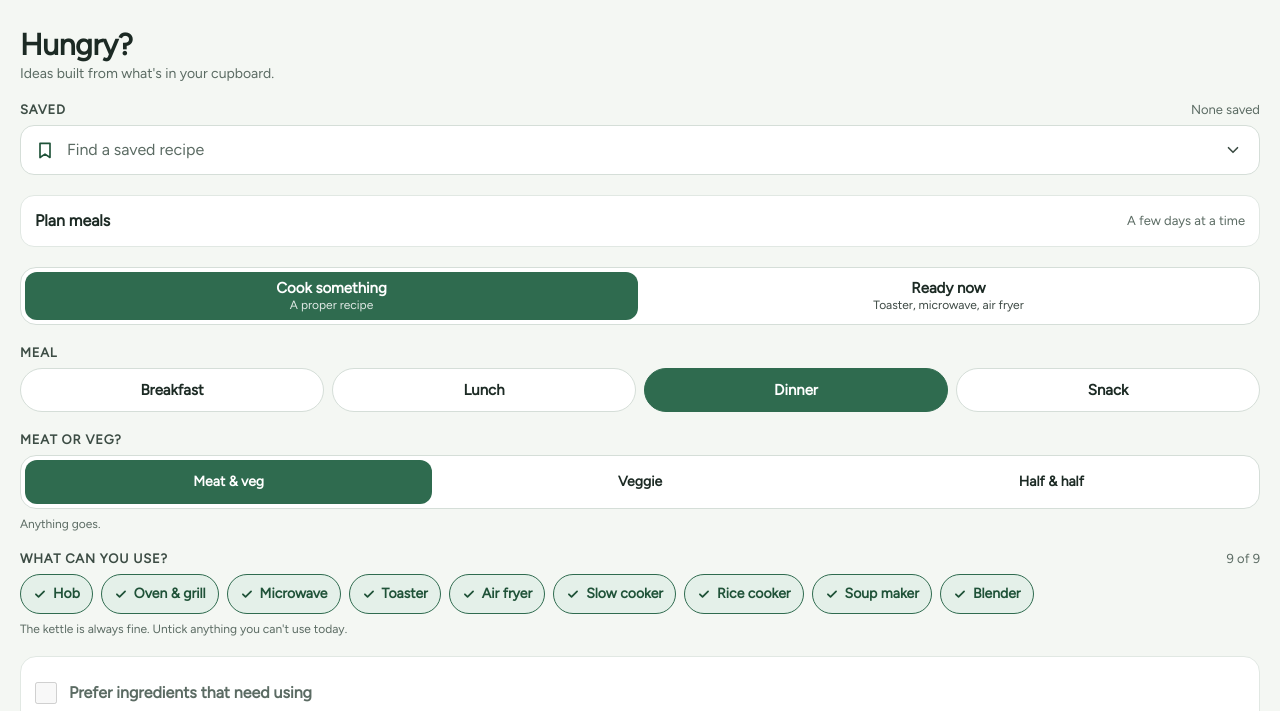
Test: Ready now has no chips, and says it can use the air fryer
Click the radio button labelled "Ready now Toaster, microwave, air fryer" at (948, 296), box [642,272,1255,320]
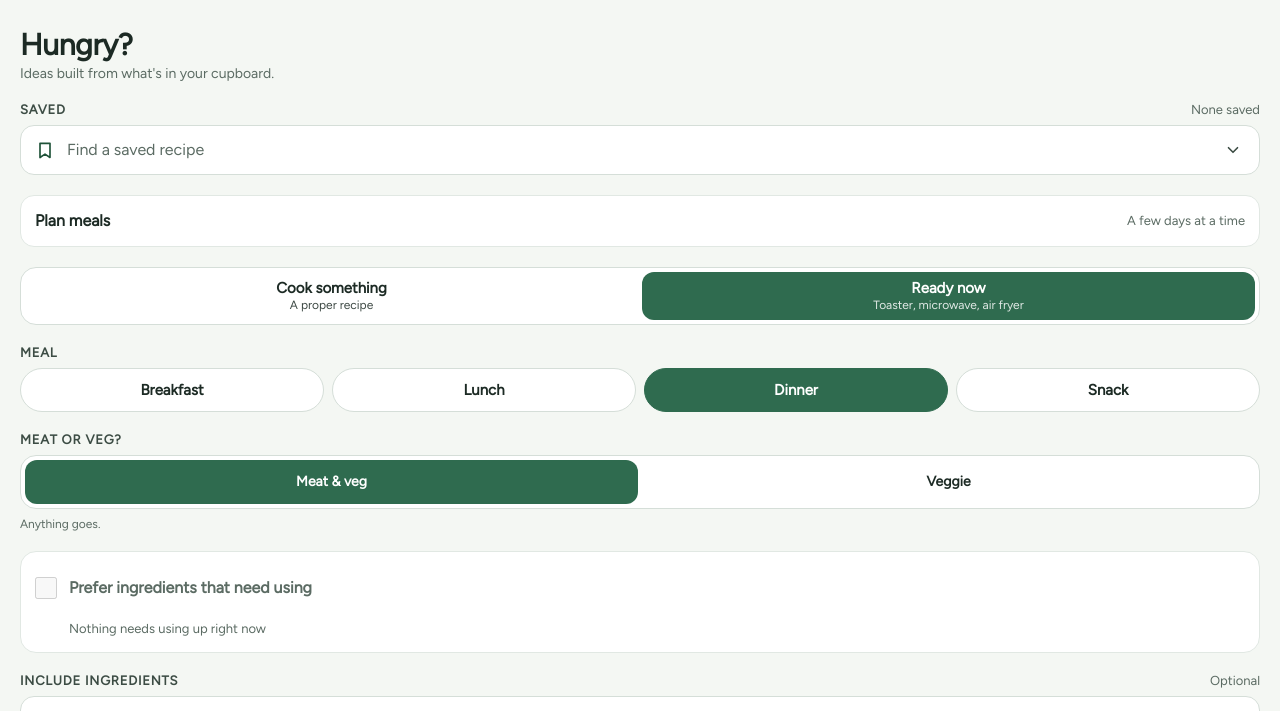
Result: the text "What can you use?" is gone
